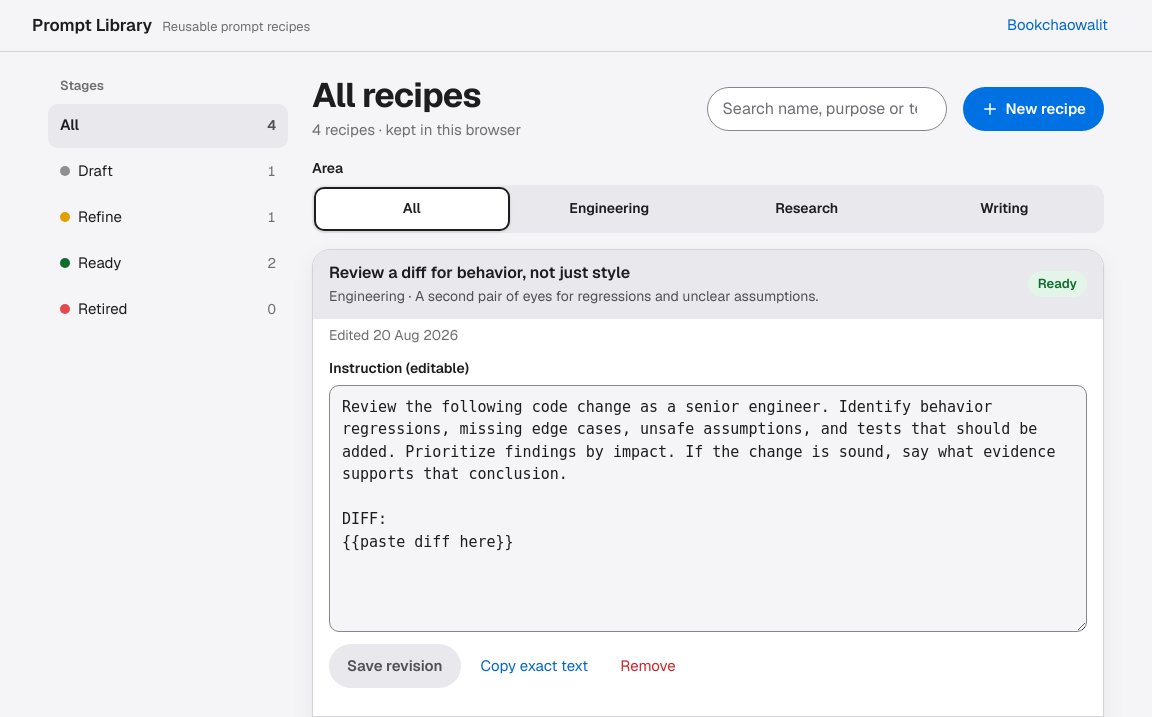
Test: recipe detail › keyboard remove focuses Undo; Undo focuses the restored recipe, Escape the next one
Later steps or results of the test are not shown.
Click the button "Remove". click: (648, 666)
box: [608,644,688,688]
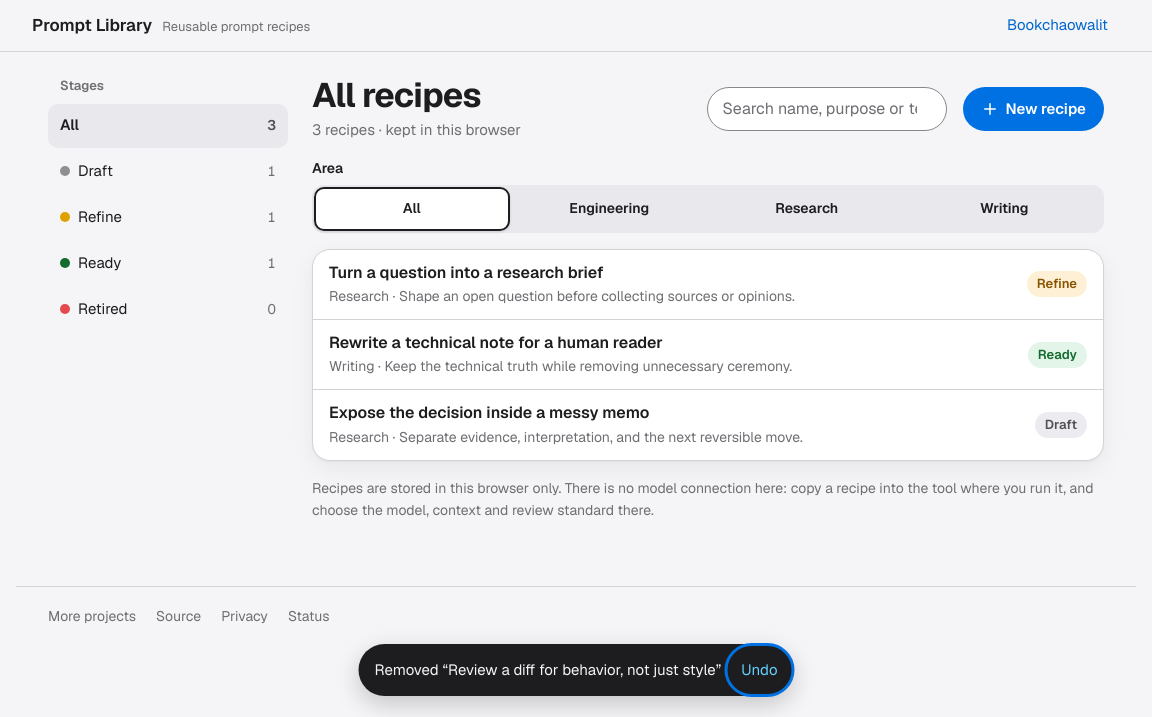
Click the button "Undo". click: (759, 670)
box: [729,648,790,692]
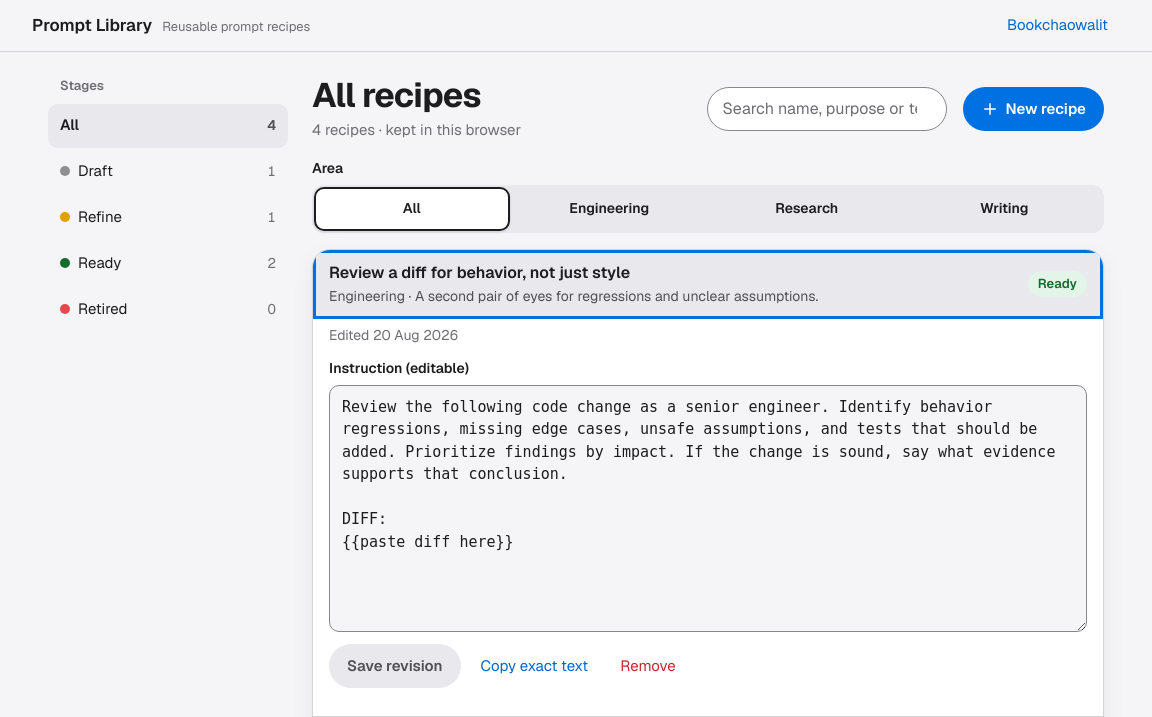
Click the button "Remove". click: (648, 666)
box: [608,644,688,688]
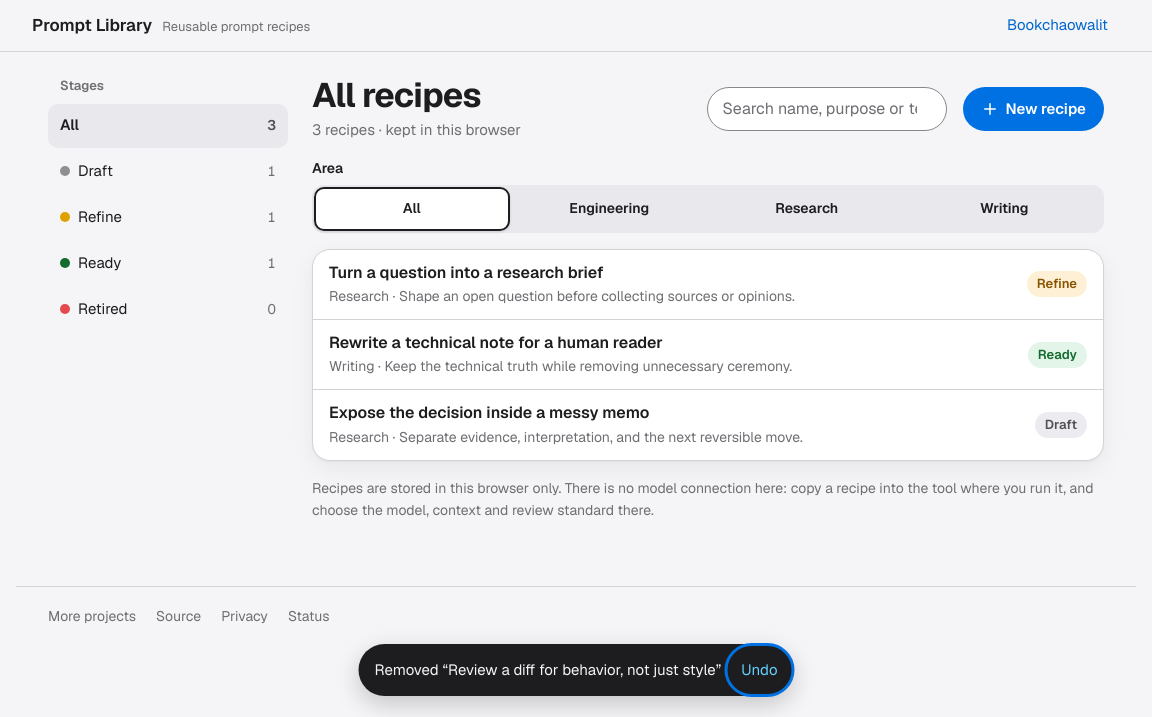
Press Escape in the element with class "as-toast", box [358,644,794,696]
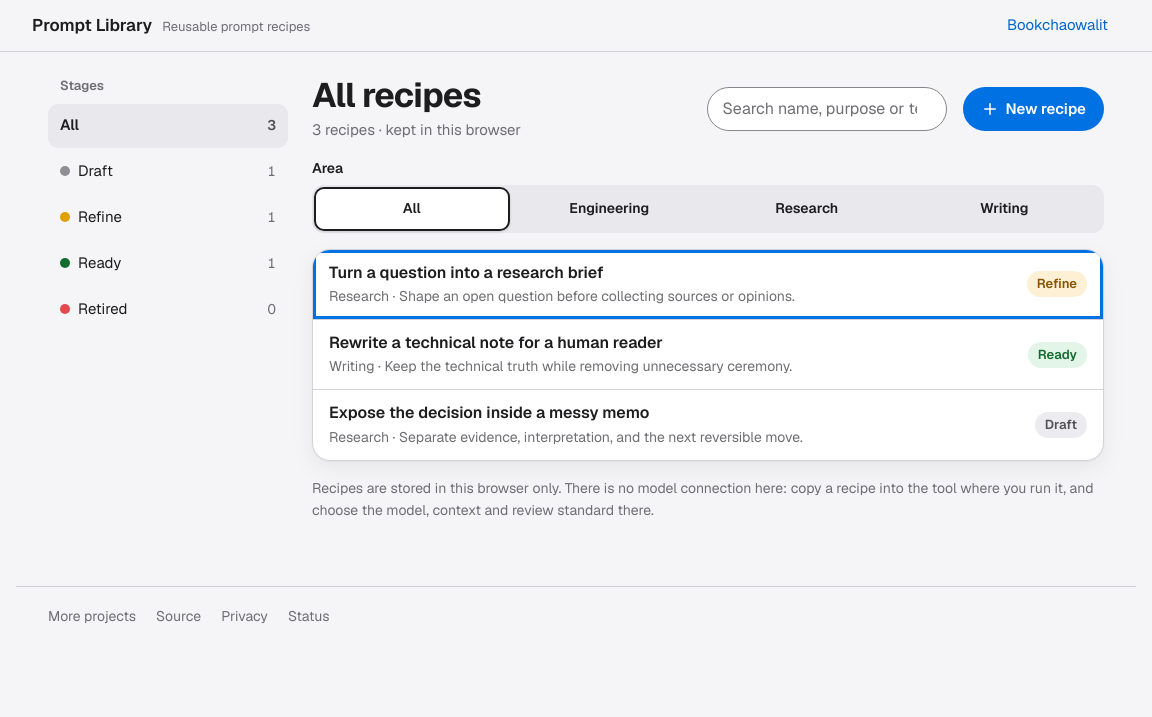
Expected: the button that starts with "Turn a question into a research brief" is shown, [313,250,1103,319]
Now the element with class "as-toast" is gone
